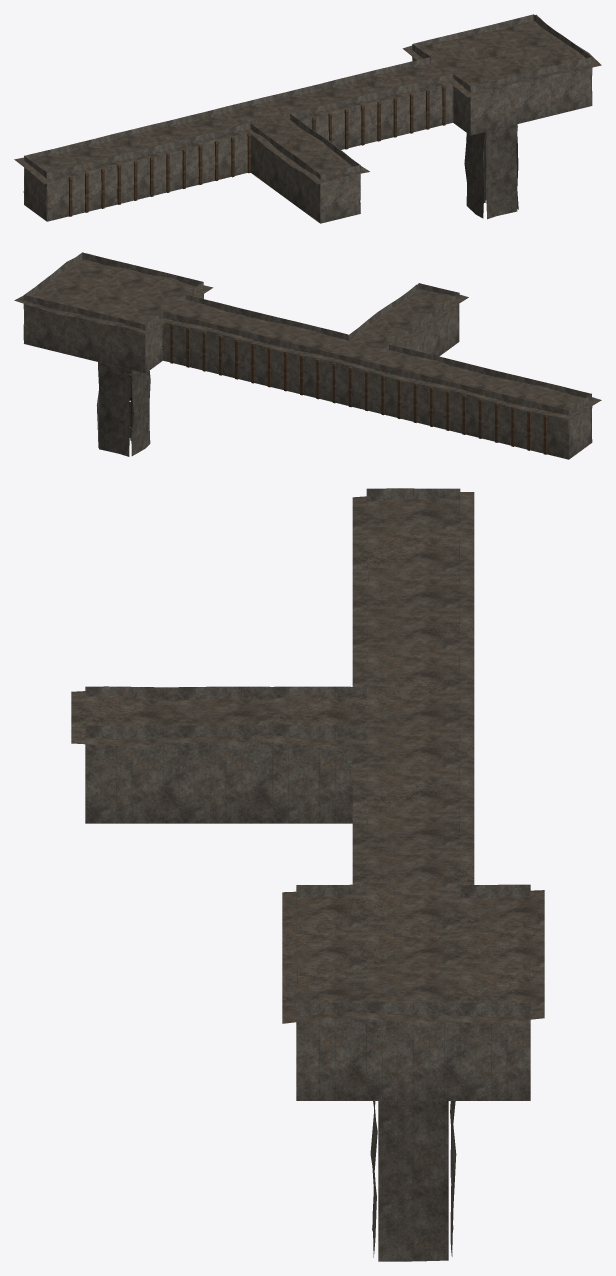
The model's file is vesper-mine-deep.glb.
3 views of the same model, one above another, from view 1: azimuth 30°, elevation 25°; view 2: azimuth 150°, elevation 25°; view 3: azimuth 270°, elevation 25° (orthographic). The views are drawn at different scales.
Visible parts, largest first — view 1: m_int_deep, m_int_shaft; view 2: m_int_deep, m_int_shaft; view 3: m_int_deep, m_int_shaft.
Boxes of the visible parts, box(x1,y1,x2,y2) form: m_int_deep: box(14, 14, 601, 223); m_int_shaft: box(464, 124, 518, 219); m_int_deep: box(14, 252, 601, 459); m_int_shaft: box(96, 362, 150, 456); m_int_deep: box(71, 488, 544, 1100); m_int_shaft: box(370, 1101, 456, 1261).
Bounding box in the file's own units: 53.2 × 14.6 × 20.2.
7 materials, 5 textured.
